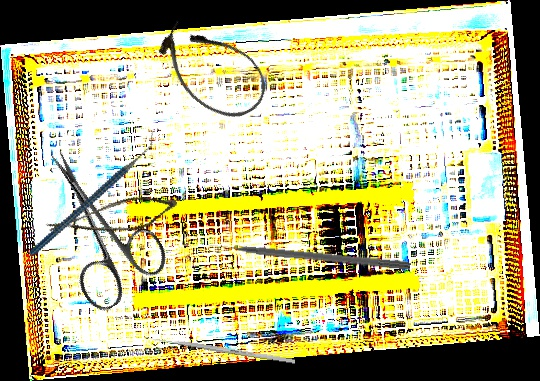Cannula: (145, 8, 279, 133)
Chopper: (4, 130, 181, 257)
Iris Scissors: (13, 129, 177, 317)
Micro Scissor: (43, 175, 181, 263)
Pusher: (205, 238, 412, 271), (143, 335, 296, 364)
